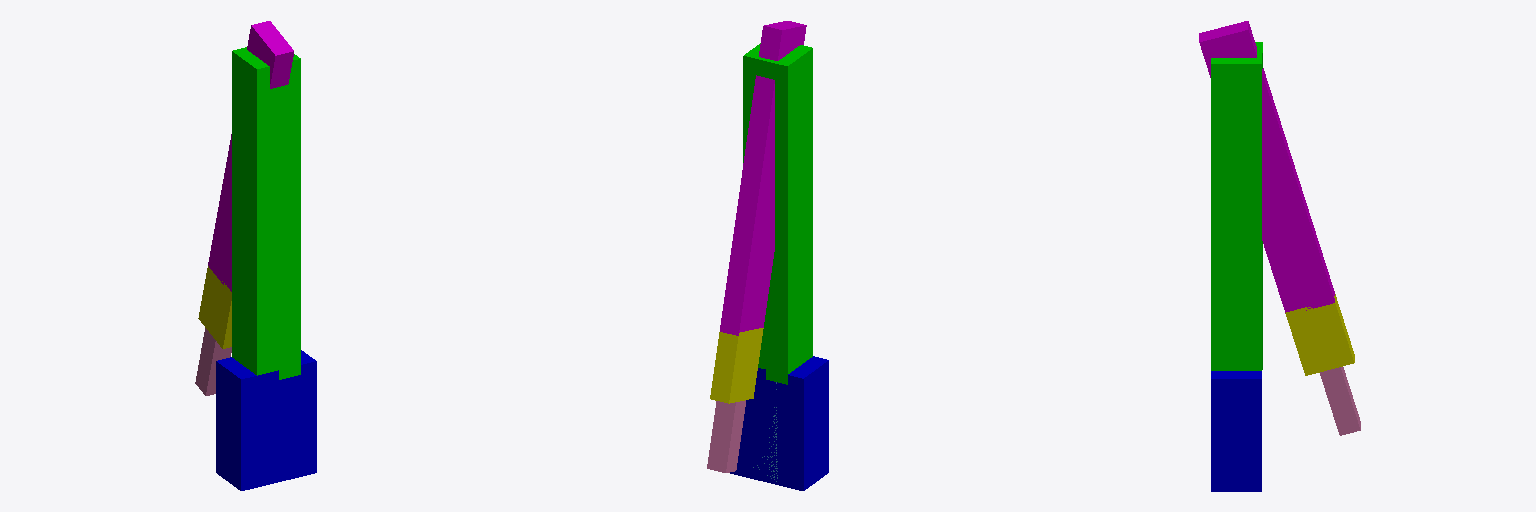
robot.urdf — new_arm_base_link:
<?xml version="1.0"?>
<robot name="new_arm_base_link">


<!-- ARM -->
  <link name="base_link">
    <visual>
      <geometry>
        <box size="0.12 0.07 0.17"/>
      </geometry>
      <origin rpy="0 0 0" xyz="0 0 0"/>
      <material name="blue">
        <color rgba="0 0 0.8 1"/>
      </material>
    </visual>
  </link>

  <link name="bl">
    <visual>
      <origin rpy="0 0 0" xyz="0 0 0"/>
      <geometry>
        <box size="0.04 0.07 0.16"/>
      </geometry>
    </visual>
  </link>

  <joint name="joint0" type="continuous">
    <axis xyz="0 0 1"/>
    <limit effort="1000.0" lower="-3" upper="3" velocity="0.5"/>
    <origin rpy="0 0 0" xyz="0 0 0"/>
    <parent link="base_link"/>
    <child link="bl"/>
  </joint>

  <link name="link1">
    <visual>
      <geometry>
        <box size="0.07 0.07 0.48"/>
      </geometry>
      <origin rpy="0 0 1.57" xyz="0 0.0 0.22"/>
      <material name="green">
        <color rgba="0 0.8 0 1"/>
      </material>
    </visual>
  </link>

  <joint name="joint1" type="revolute">
    <axis xyz="1 0 0"/>
    <limit effort="1000.0" lower="-1.727" upper="1.57" velocity="0.25"/>
    <origin rpy="0.0 0. 0" xyz="0 0 0.09"/>
    <parent link="bl"/>
    <child link="link1"/>
  </joint>

  <link name="link2">
    <visual>
      <geometry>
        <box size="0.03 0.43 0.07"/>
      </geometry>
      <origin rpy="0 0 0" xyz="0 0.15 0"/>
      <material name="magenta">
        <color rgba="0.8 0 0.8 1"/>
      </material>
    </visual>
  </link>

  <link name="link_virtual">
    <visual>
      <geometry>
        <box size="0.03 0.01 0.07"/>
      </geometry>
      <origin rpy="0 0 1.57" xyz="0 0.0 0"/>
      <material name="magenta">
        <color rgba="0.8 0 0.8 1"/>
      </material>
    </visual>
  </link>

  <!-- <link name="link_virtual">
    <origin rpy="0 0 0" xyz="0 0.15 0"/>
  </link> -->

    <!-- 0.28 was the original value, subtracted pi/2 -->
  <joint name="joint2" type="revolute">
    <axis xyz="1 0 0 "/>
    <limit effort="1000.0" lower="-2.6" upper="2.6" velocity="0.25"/>
    <origin rpy="-1.29 0 0" xyz="0 0.0 0.43"/>

    <parent link="link1"/>
    <child link="link_virtual"/>
  </joint>

  <joint name="joint3" type="revolute">
    <axis xyz="0 1 0 "/>
    <limit effort="1000.0" lower="-3.61" upper="3.61" velocity="0.25"/>
    <origin rpy="0 0 0" xyz="0 0.0 0.0"/>
    <parent link="link_virtual"/>
    <child link="link2"/>
  </joint>

  <link name="link3">
    <visual>
      <geometry>
        <box size="0.03 0.1 0.07"/>
      </geometry>
      <origin rpy="0 0 0" xyz="0 0.03 0.0"/>
      <material name="yellow">
        <color rgba="0.8 0.8 0 1"/>
      </material>
    </visual>
  </link>

  <joint name="joint4" type="revolute">
    <axis xyz="1 0 0 "/>
    <limit effort="1000.0" lower="-1.64" upper="1.64" velocity="0.25"/>
    <origin rpy="0 0 0" xyz="0 0.38 0.0"/>
    <parent link="link2"/>
    <child link="link3"/>
  </joint>

  <link name="link4">
    <visual>
      <geometry>
        <box size="0.03 0.1 0.03"/>
      </geometry>
      <origin rpy="0 0 0" xyz="0 0.03 0.0"/>
    </visual>
  </link>

  <joint name="joint5" type="revolute">
    <axis xyz="0 1 0 "/>
    <limit effort="1000.0" lower="-2.44" upper="2.44" velocity="0.25"/>
    <origin rpy="0 0 0" xyz="0 0.1 0.0"/>
    <parent link="link3"/>
    <child link="link4"/>
  </joint>


</robot>

--- Render facts (derived) ---
The picture shows the robot from 3 angles, left to right: view 1: azimuth 30°, elevation 25°; view 2: azimuth 150°, elevation 25°; view 3: azimuth 270°, elevation 25°; orthographic projection.
Model new_arm_base_link with 7 links and 6 joints (5 revolute, 1 continuous), rooted at base_link, posed every joint at zero.
Visible links, largest first — view 1: link1, base_link, link2, link3, link4; view 2: link1, link2, base_link, link3, link4; view 3: link1, link2, base_link, link3, link4.
Link boxes in pixels (x1,y1,x2,y2): link1: [232, 47, 300, 379]; base_link: [216, 350, 316, 490]; link2: [208, 21, 293, 291]; link3: [198, 266, 231, 348]; link4: [195, 328, 231, 395]; link1: [743, 43, 812, 384]; link2: [720, 21, 806, 335]; base_link: [730, 356, 828, 490]; link3: [710, 328, 763, 403]; link4: [707, 400, 745, 472]; link1: [1211, 42, 1262, 370]; link2: [1199, 21, 1334, 312]; base_link: [1211, 371, 1261, 491]; link3: [1285, 294, 1354, 375]; link4: [1320, 367, 1360, 435].
Bounding box of the posed robot: 0.12 × 0.2212 × 0.6772 m (x, y, z).
Geometry: primitives only (box / cylinder / sphere), no mesh files.